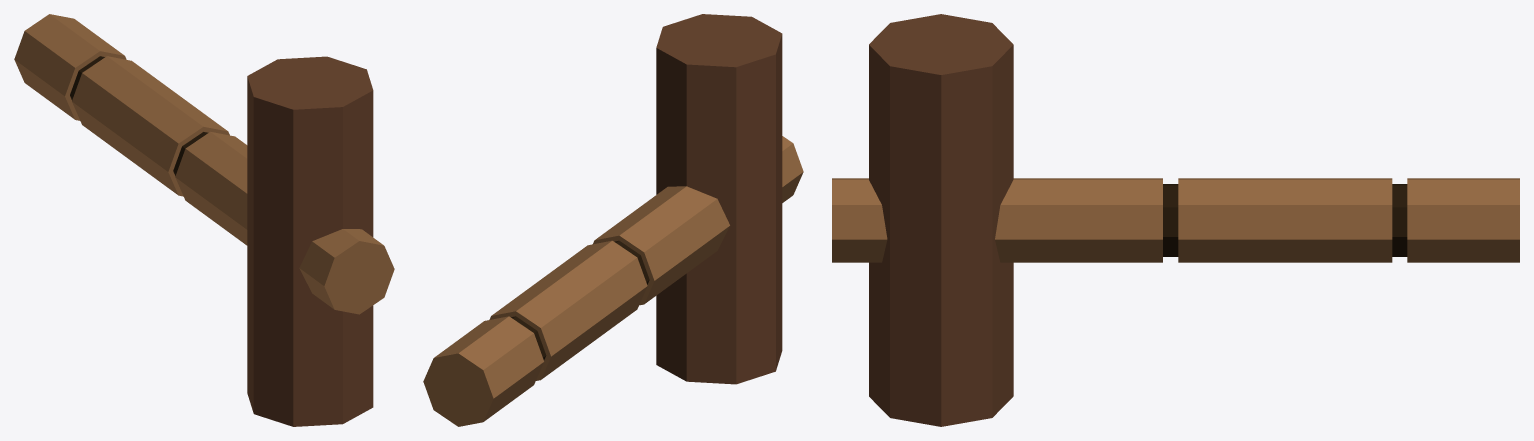
The model's file is char_020_weapon_01_sledgehammer_wood_01_FBX.fbx.
The picture shows the model from 3 angles, left to right: view 1: azimuth 30°, elevation 25°; view 2: azimuth 150°, elevation 25°; view 3: azimuth 270°, elevation 25°; orthographic projection. The views are drawn at different scales.
Visible parts, largest first — view 1: sledgehammer_wood, sledgehammer_cable; view 2: sledgehammer_wood, sledgehammer_cable; view 3: sledgehammer_wood, sledgehammer_cable.
Boxes of the visible parts, x1,y1,x2,y2 form: sledgehammer_wood: (247,56,373,426); sledgehammer_cable: (14,14,394,314); sledgehammer_wood: (656,14,782,384); sledgehammer_cable: (423,136,803,426); sledgehammer_wood: (869,14,1013,426); sledgehammer_cable: (832,178,1519,262).
Bounding box in the file's own units: 0.2526 × 0.6776 × 1.2.
Materials: 1 (1 with a texture image).
